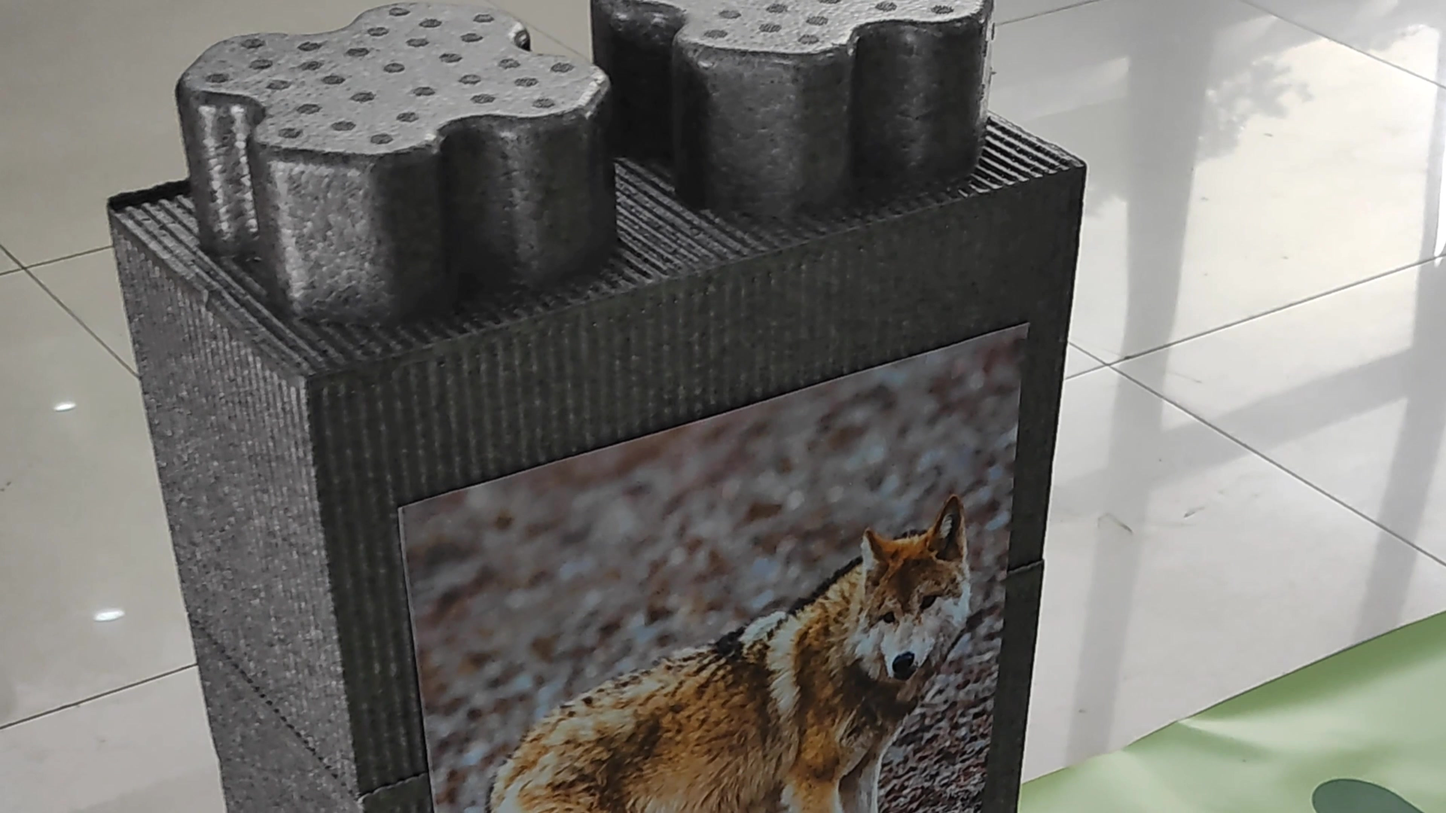wolf: (443, 446, 996, 810)
